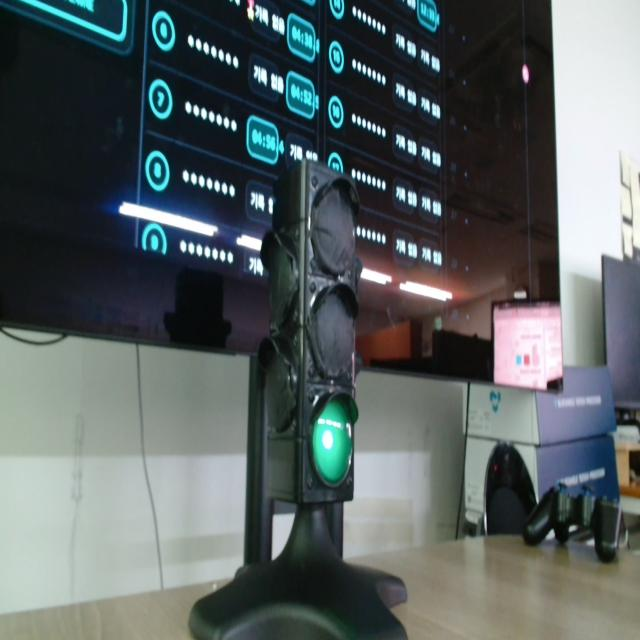green_light: (312, 399, 352, 485)
